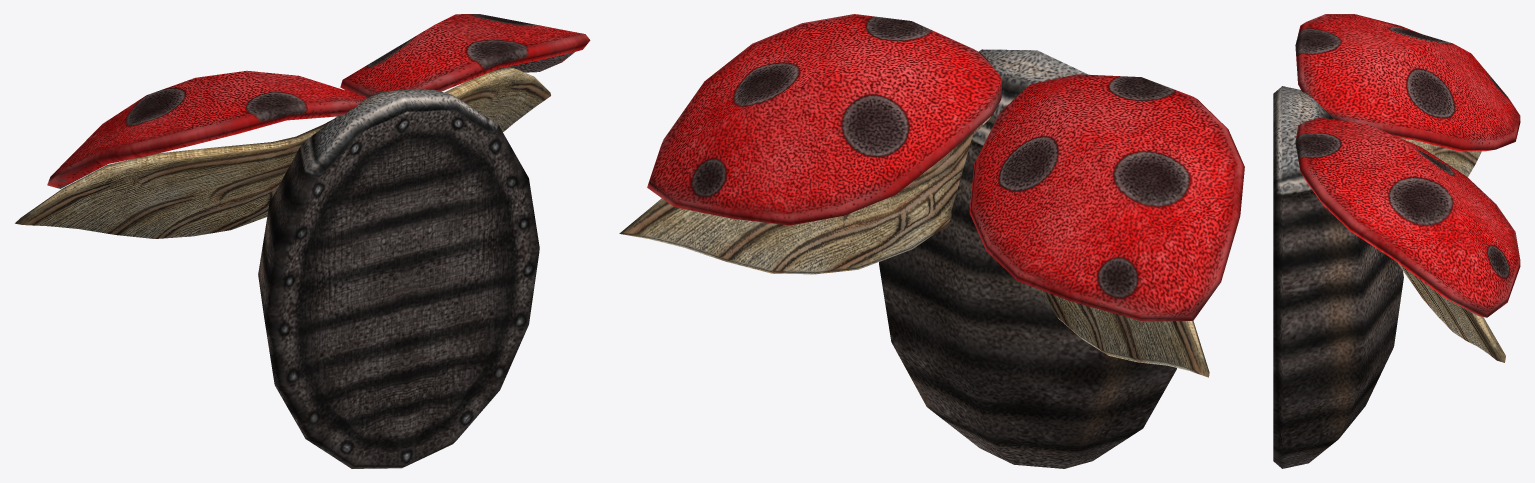
Rendered from BACK_LADY_BUG.fbx.
The picture shows the model from 3 angles, left to right: view 1: azimuth 30°, elevation 25°; view 2: azimuth 150°, elevation 25°; view 3: azimuth 270°, elevation 25°; orthographic projection. The views are drawn at different scales.
Visible parts, largest first — view 1: BACK_LADY_BUG; view 2: BACK_LADY_BUG; view 3: BACK_LADY_BUG.
Boxes of the visible parts, bbox=[...] form: BACK_LADY_BUG: bbox=[15, 14, 590, 468]; BACK_LADY_BUG: bbox=[619, 14, 1244, 468]; BACK_LADY_BUG: bbox=[1273, 14, 1520, 468].
Size of the model in its own units: 0.075 by 0.051 by 0.0312.
